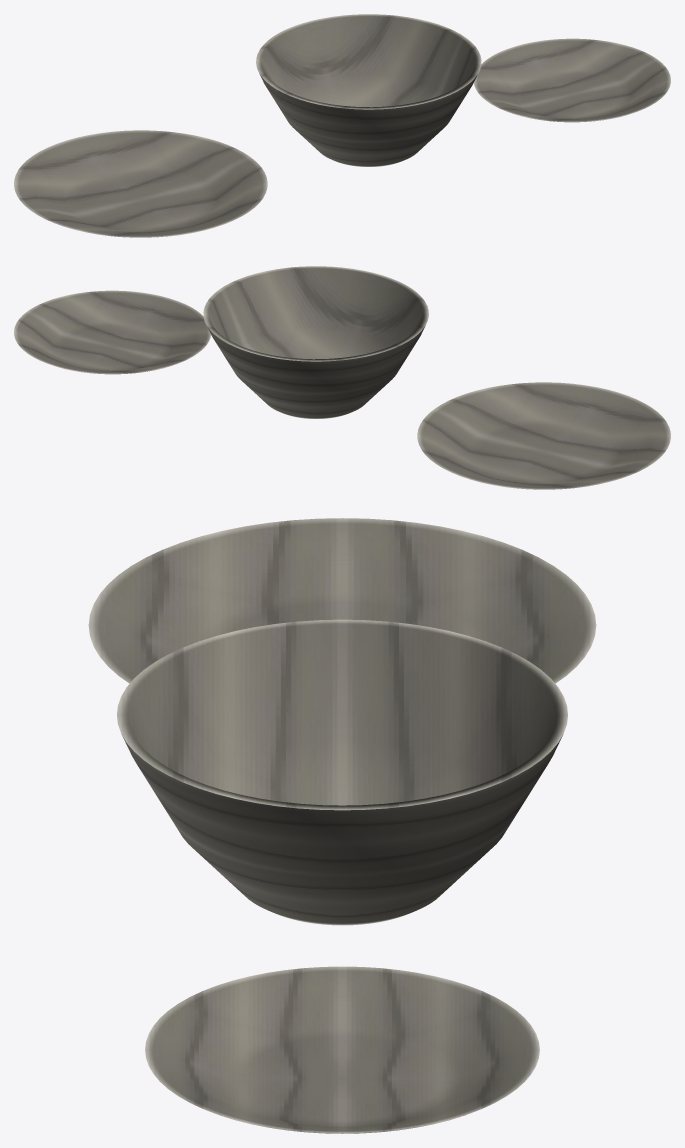
File: MAR-19.glb
The picture shows the model from 3 angles, top to bottom: view 1: azimuth 30°, elevation 25°; view 2: azimuth 150°, elevation 25°; view 3: azimuth 270°, elevation 25°; orthographic projection. The views are drawn at different scales.
Bounding box in the file's own units: 0.77 × 0.1 × 0.27.
6 materials, 6 textured.
